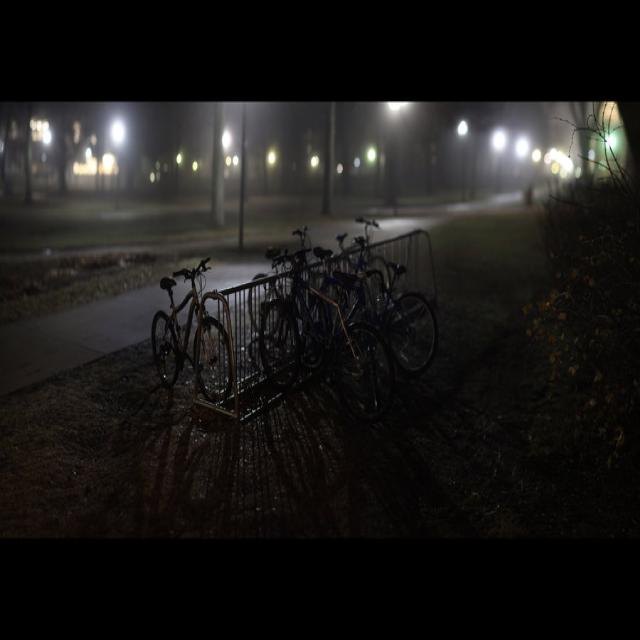Bicycle: (336, 179, 444, 407), (254, 236, 338, 462), (151, 256, 242, 429), (311, 233, 376, 434)
